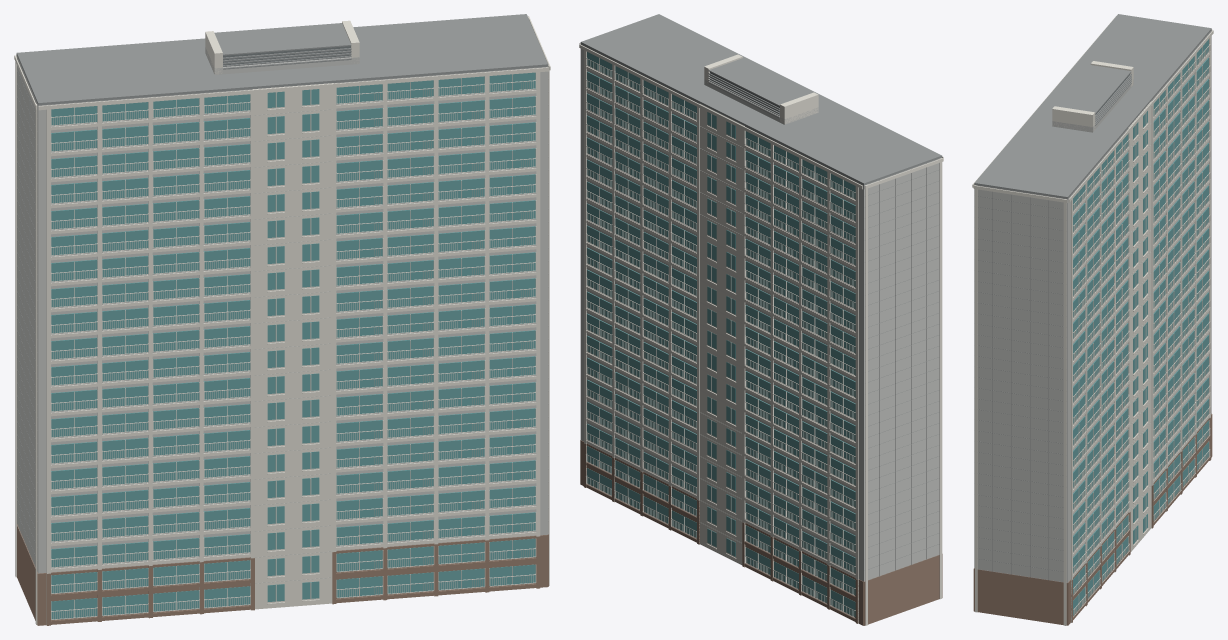
File: bespoke-jamsil-els-150.glb
3 views of the same model, side by side, from view 1: azimuth 30°, elevation 25°; view 2: azimuth 150°, elevation 25°; view 3: azimuth 270°, elevation 25° (orthographic). The views are drawn at different scales.
Visible parts, largest first — view 1: Els150_editable_Els150_turquoise_balcony_glazing, Els150_editable_Els150_light_grey_solid_wall, Els150_white_exact_chunk_2, Els150_white_exact_chunk_3, Els150_white_exact_chunk_4, Els150_editable_Els150_modest_grey_flat_roof_caps, Els150_white_exact_chunk_5, Els150_editable_Els150_muted_ground_wall, Els150_editable_Els150_narrow_charcoal_service_strips; view 2: Els150_editable_Els150_turquoise_balcony_glazing, Els150_editable_Els150_light_grey_solid_wall, Els150_white_exact_chunk_0, Els150_white_exact_chunk_1, Els150_editable_Els150_modest_grey_flat_roof_caps, Els150_white_exact_chunk_2, Els150_editable_Els150_muted_ground_wall, Els150_white_exact_chunk_5; view 3: Els150_editable_Els150_light_grey_solid_wall, Els150_editable_Els150_turquoise_balcony_glazing, Els150_editable_Els150_modest_grey_flat_roof_caps, Els150_white_exact_chunk_0, Els150_white_exact_chunk_1, Els150_white_exact_chunk_2, Els150_editable_Els150_muted_ground_wall, Els150_white_exact_chunk_5.
Part boxes in pixels (x1,y1,x2,y2): Els150_editable_Els150_turquoise_balcony_glazing: [51, 72, 535, 619]; Els150_editable_Els150_light_grey_solid_wall: [16, 47, 548, 583]; Els150_white_exact_chunk_2: [14, 54, 333, 624]; Els150_white_exact_chunk_3: [46, 89, 383, 625]; Els150_white_exact_chunk_4: [336, 76, 536, 594]; Els150_editable_Els150_modest_grey_flat_roof_caps: [16, 14, 548, 567]; Els150_white_exact_chunk_5: [38, 16, 550, 585]; Els150_editable_Els150_muted_ground_wall: [17, 524, 548, 625]; Els150_editable_Els150_narrow_charcoal_service_strips: [223, 46, 350, 65]; Els150_editable_Els150_turquoise_balcony_glazing: [587, 52, 855, 617]; Els150_editable_Els150_light_grey_solid_wall: [580, 44, 941, 581]; Els150_white_exact_chunk_0: [585, 51, 744, 564]; Els150_white_exact_chunk_1: [584, 46, 827, 603]; Els150_editable_Els150_modest_grey_flat_roof_caps: [580, 14, 942, 579]; Els150_white_exact_chunk_2: [579, 44, 943, 625]; Els150_editable_Els150_muted_ground_wall: [580, 440, 942, 625]; Els150_white_exact_chunk_5: [579, 43, 943, 157]; Els150_editable_Els150_light_grey_solid_wall: [974, 30, 1211, 582]; Els150_editable_Els150_turquoise_balcony_glazing: [1073, 39, 1208, 615]; Els150_editable_Els150_modest_grey_flat_roof_caps: [974, 14, 1211, 582]; Els150_white_exact_chunk_0: [1073, 101, 1151, 616]; Els150_white_exact_chunk_1: [1071, 72, 1195, 622]; Els150_white_exact_chunk_2: [1068, 29, 1213, 511]; Els150_editable_Els150_muted_ground_wall: [973, 414, 1212, 625]; Els150_white_exact_chunk_5: [972, 16, 1133, 625].
Bounding box in the file's own units: 50.63 × 57 × 27.92.
